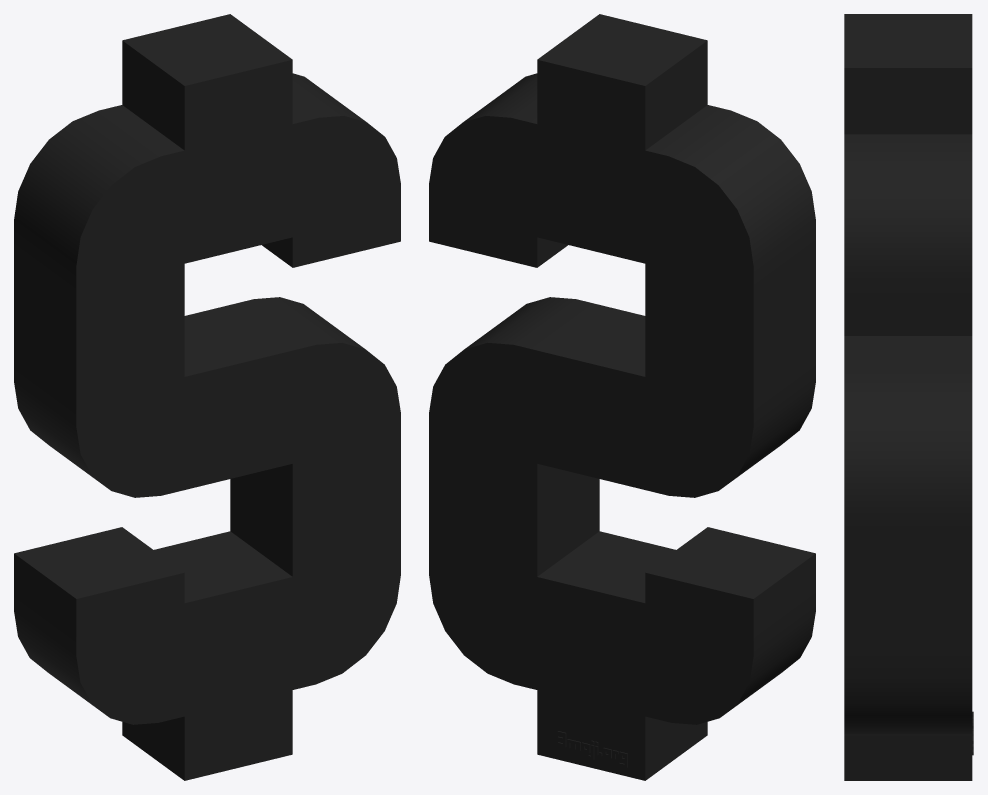
File: heavy_dollar_sign.fbx
3 views of the same model, side by side, from view 1: azimuth 30°, elevation 25°; view 2: azimuth 150°, elevation 25°; view 3: azimuth 270°, elevation 25° (orthographic). The views are drawn at different scales.
Parts seen in each view (by area): view 1: Cube.6455; view 2: Cube.6455; view 3: Cube.6455.
Part boxes in pixels (<box>): Cube.6455: <box>14,14,400,780</box>; Cube.6455: <box>429,14,815,780</box>; Cube.6455: <box>844,14,973,780</box>.
Bounding box in the file's own units: 105 × 216 × 35.5.
1 material, 1 textured.
